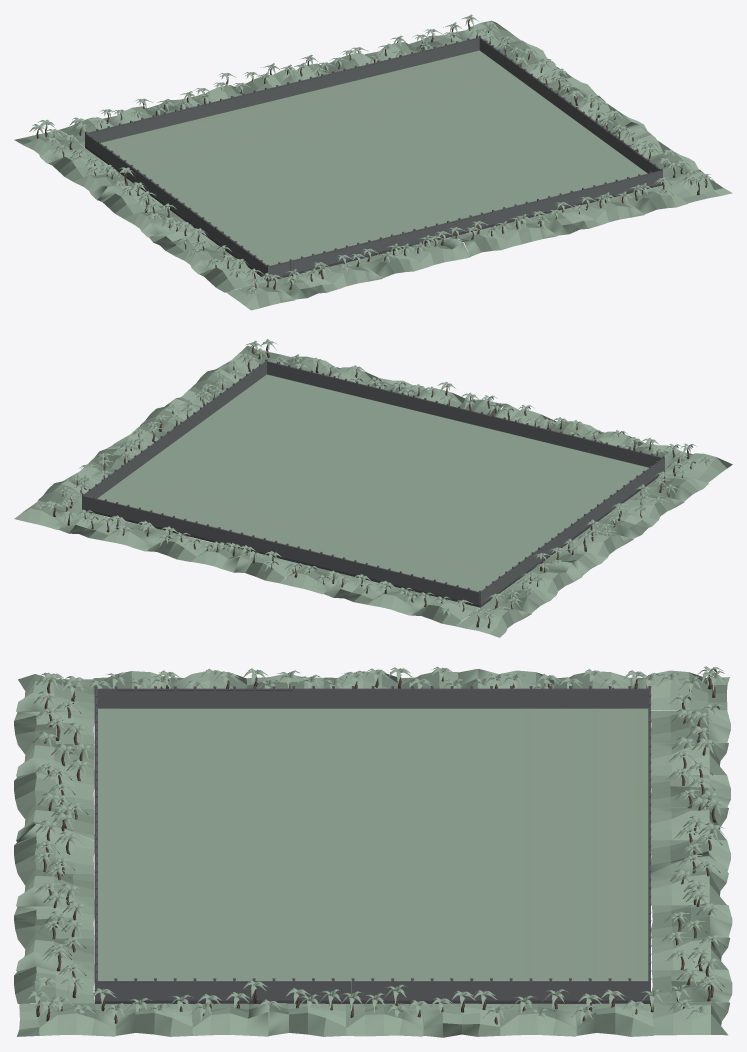
Rendered from Ground.fbx.
The picture shows the model from 3 angles, top to bottom: view 1: azimuth 30°, elevation 25°; view 2: azimuth 150°, elevation 25°; view 3: azimuth 270°, elevation 25°; orthographic projection. The views are drawn at different scales.
Visible parts, largest first — view 1: Ground; view 2: Ground; view 3: Ground.
Part boxes in pixels (x1,y1,x2,y2): Ground: (14,14,732,310); Ground: (14,339,732,637); Ground: (14,666,732,1037).
Size of the model in its own units: 11280 by 513 by 9498.
